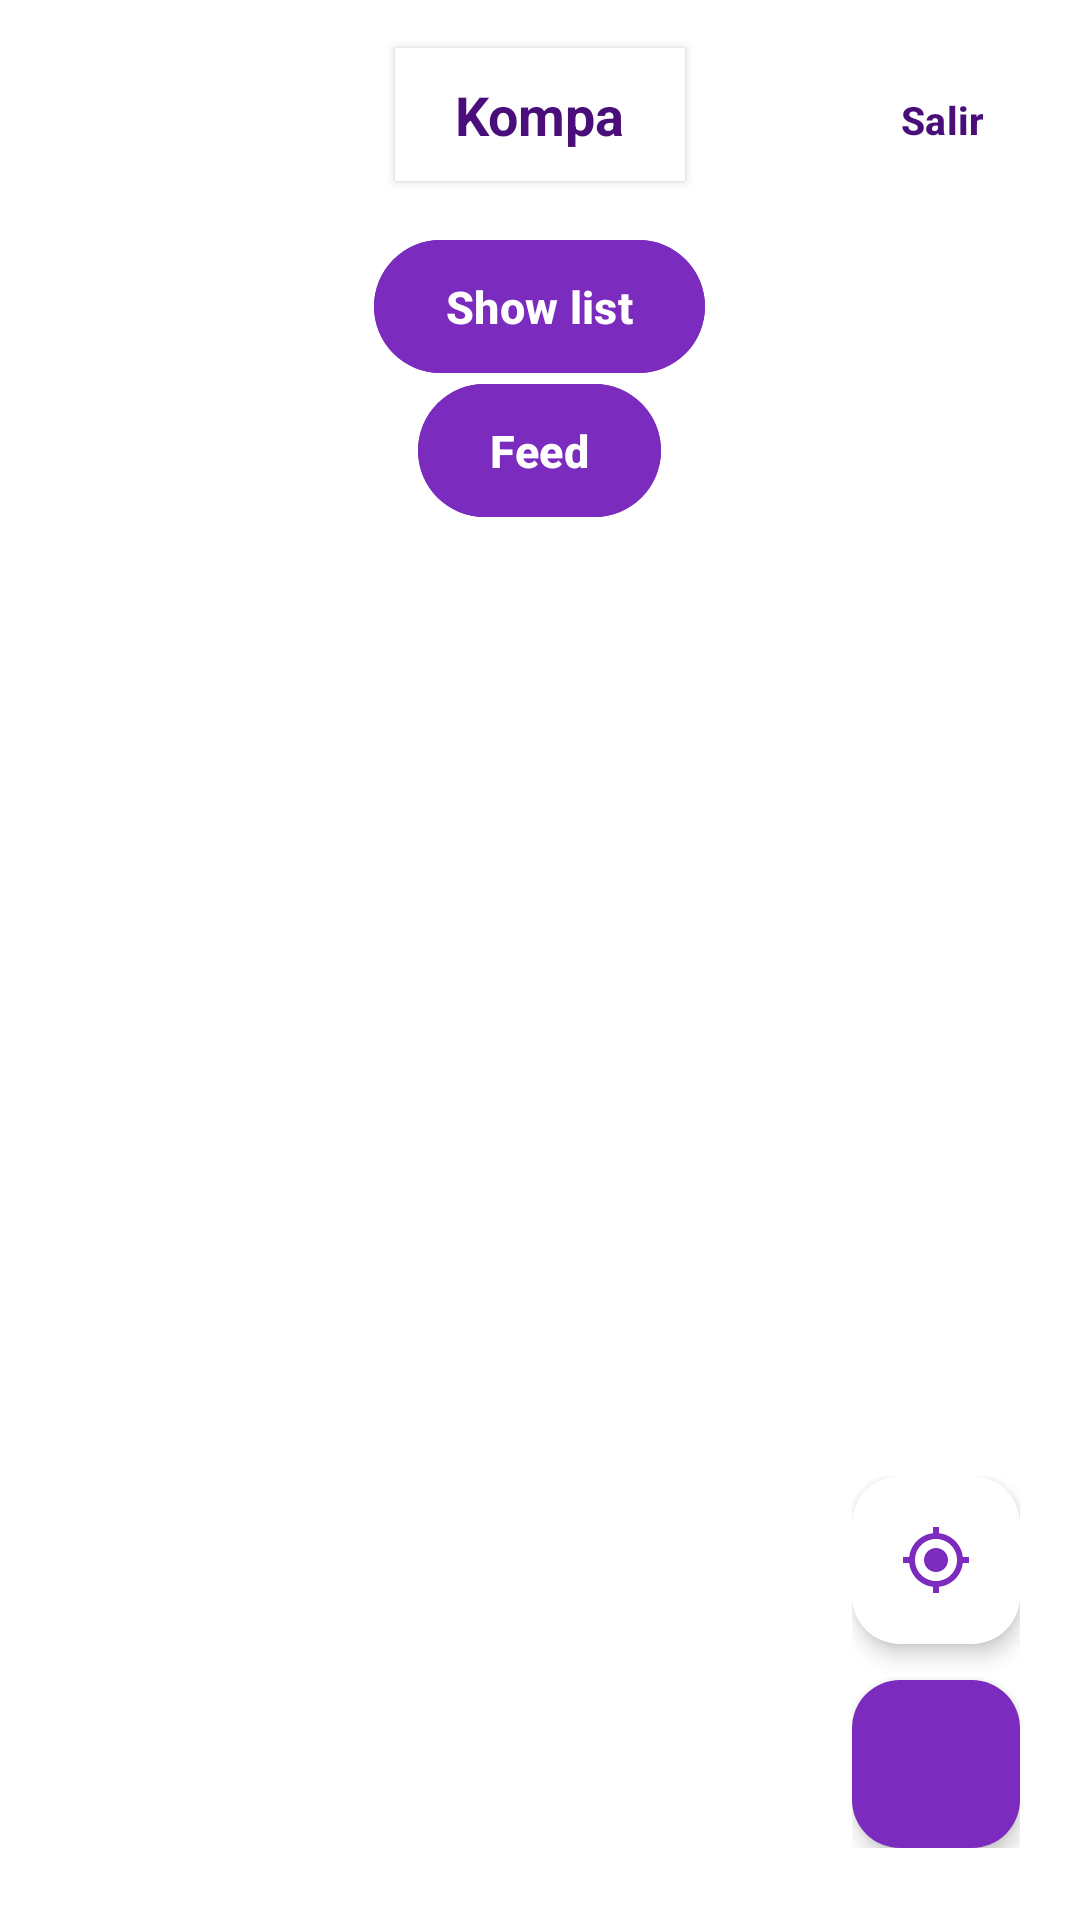

Icon bounding boxes for this 1080*1920 phone screenshot, format BBox(x1, y1, x2, y2):
Centrar mapa: BBox(903, 1527, 969, 1593)
